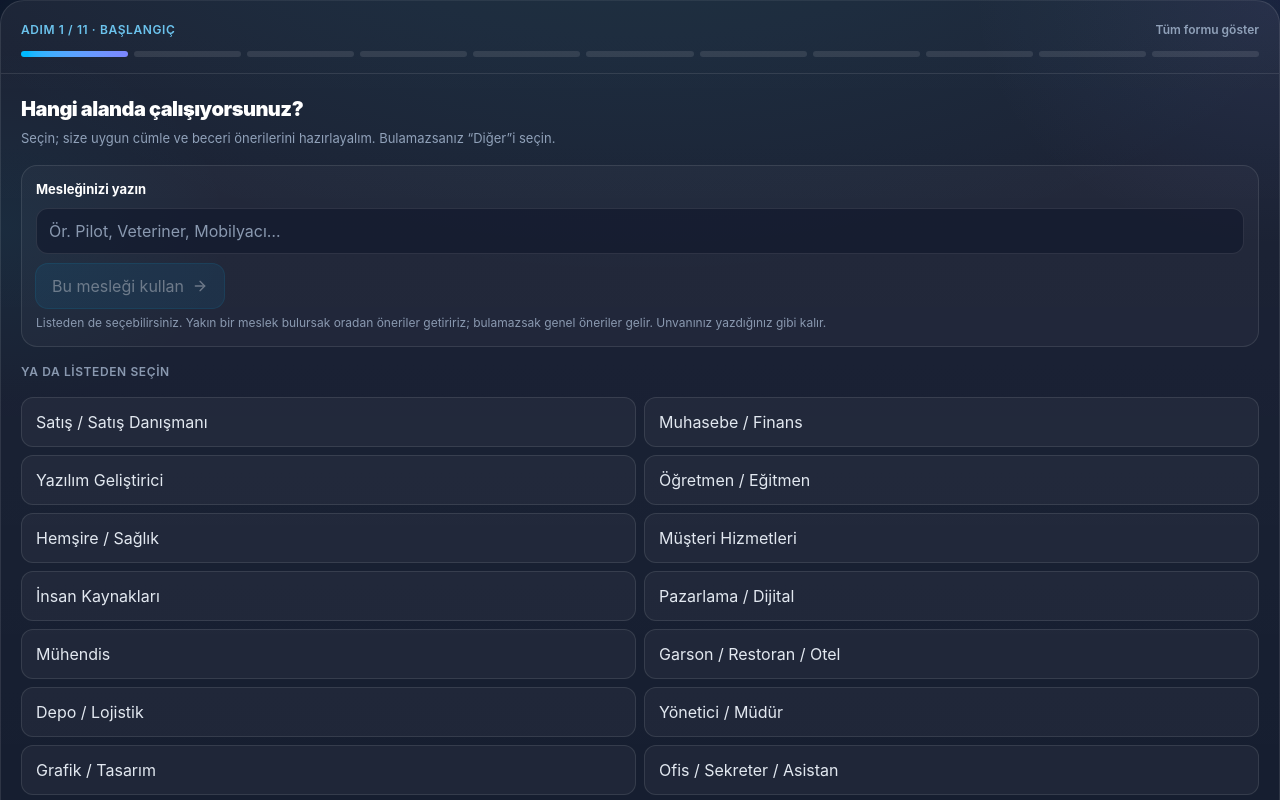
Scenario: sihirbaz › örnek CV'yi açar ve bitiş adımına geçer
Click the button "Muhasebe / Finans". click: (731,422)
box: x1=644 y1=397 x2=1259 y2=447
(page scrolled)
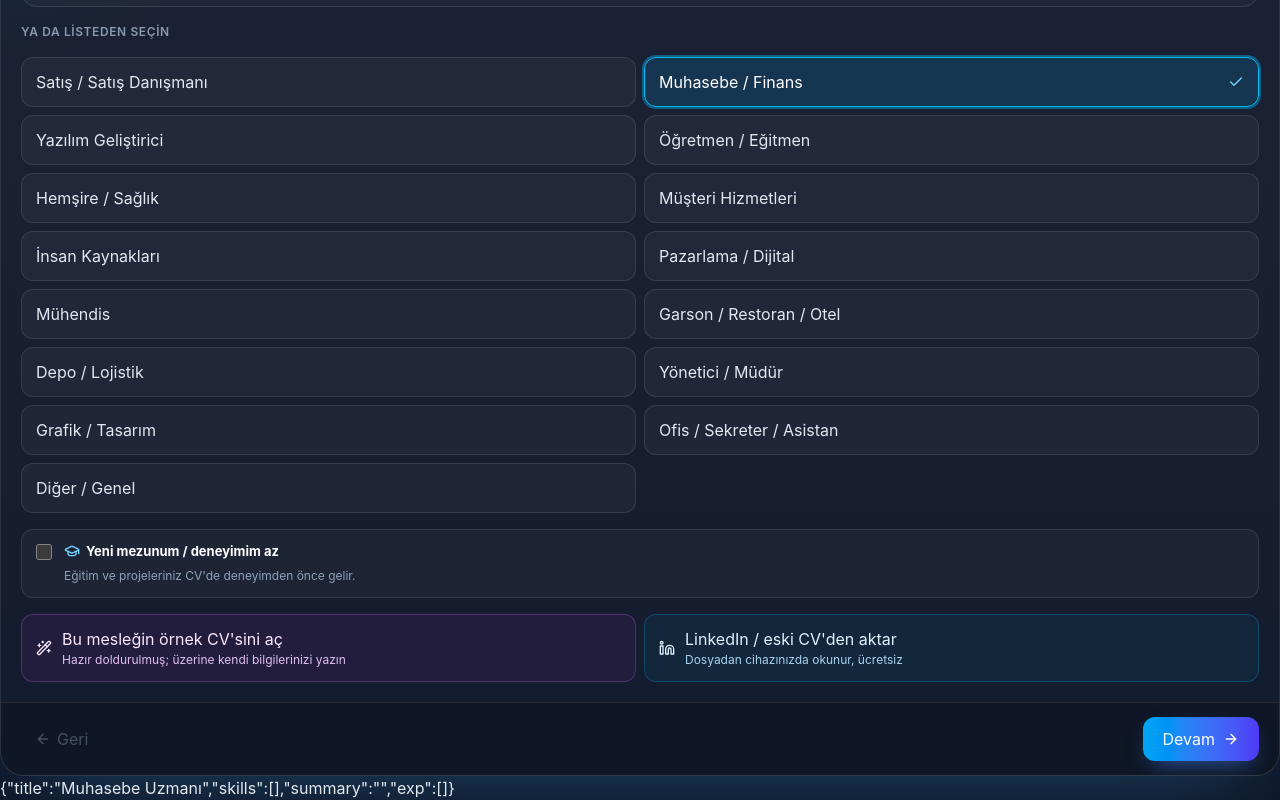
Click the button "Bu mesleğin örnek CV'sini aç". click: (172,639)
box: x1=21 y1=614 x2=636 y2=682
(page scrolled)
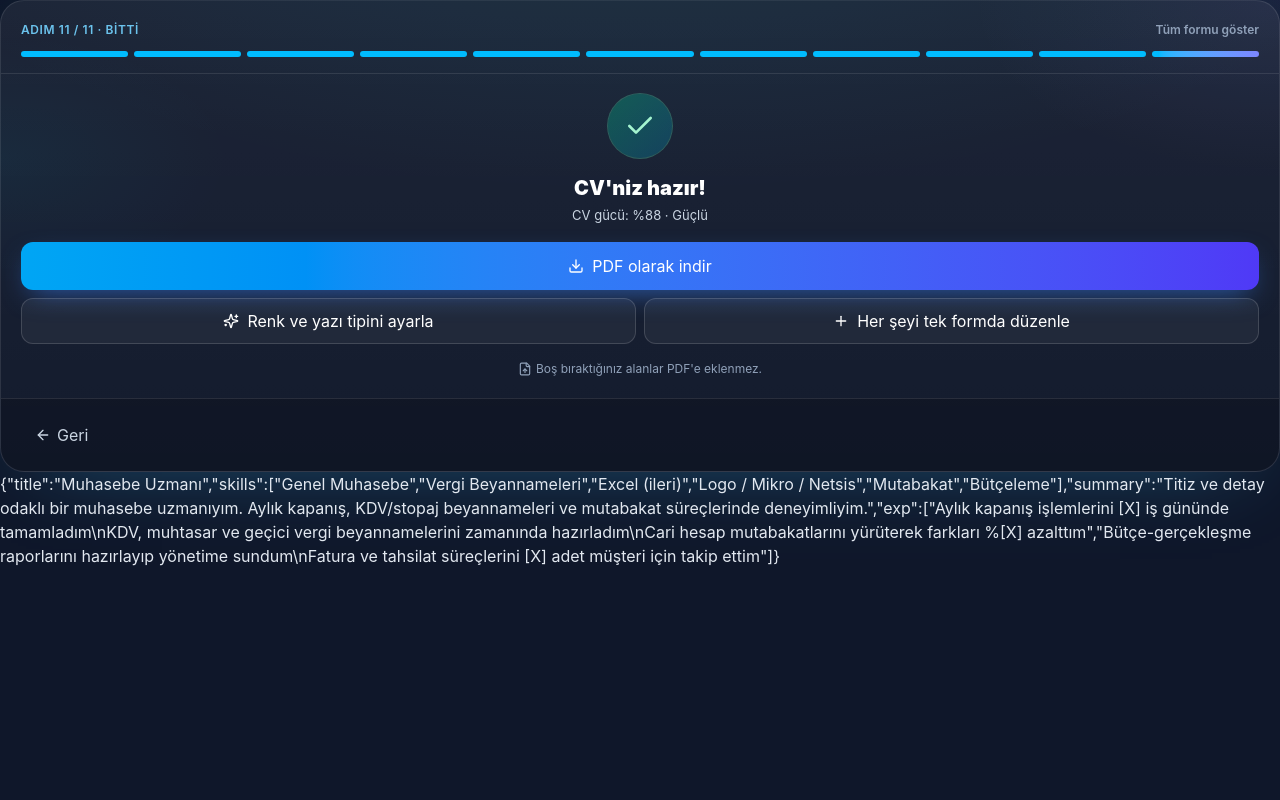
Expected: the text "CV'niz hazır!" is shown, x1=574 y1=176 x2=706 y2=200
